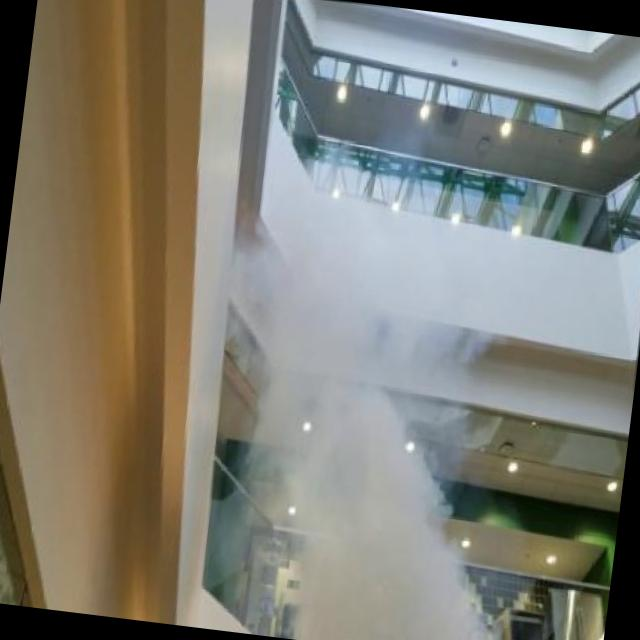smoke: (254, 194, 501, 543)
